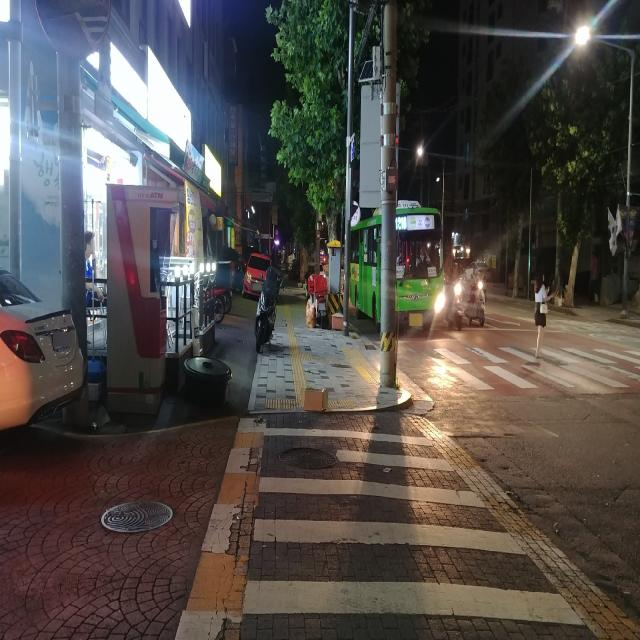횡단보도: (242, 428, 585, 624), (405, 333, 640, 406)
